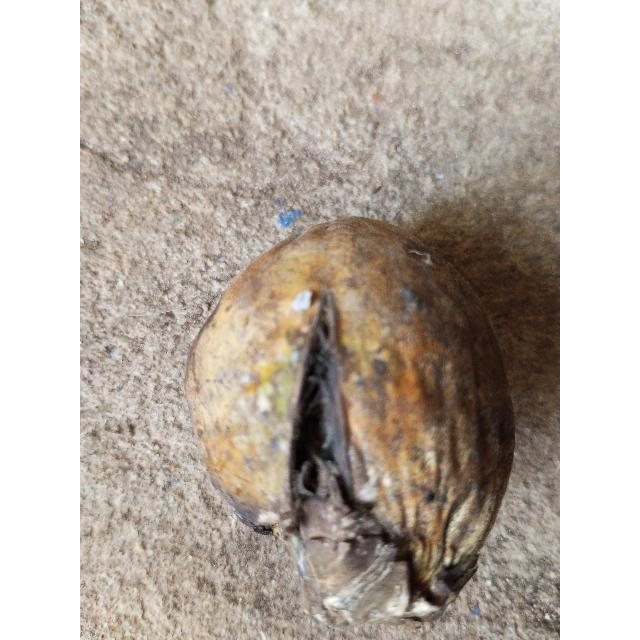damaged: (183, 217, 516, 626)
